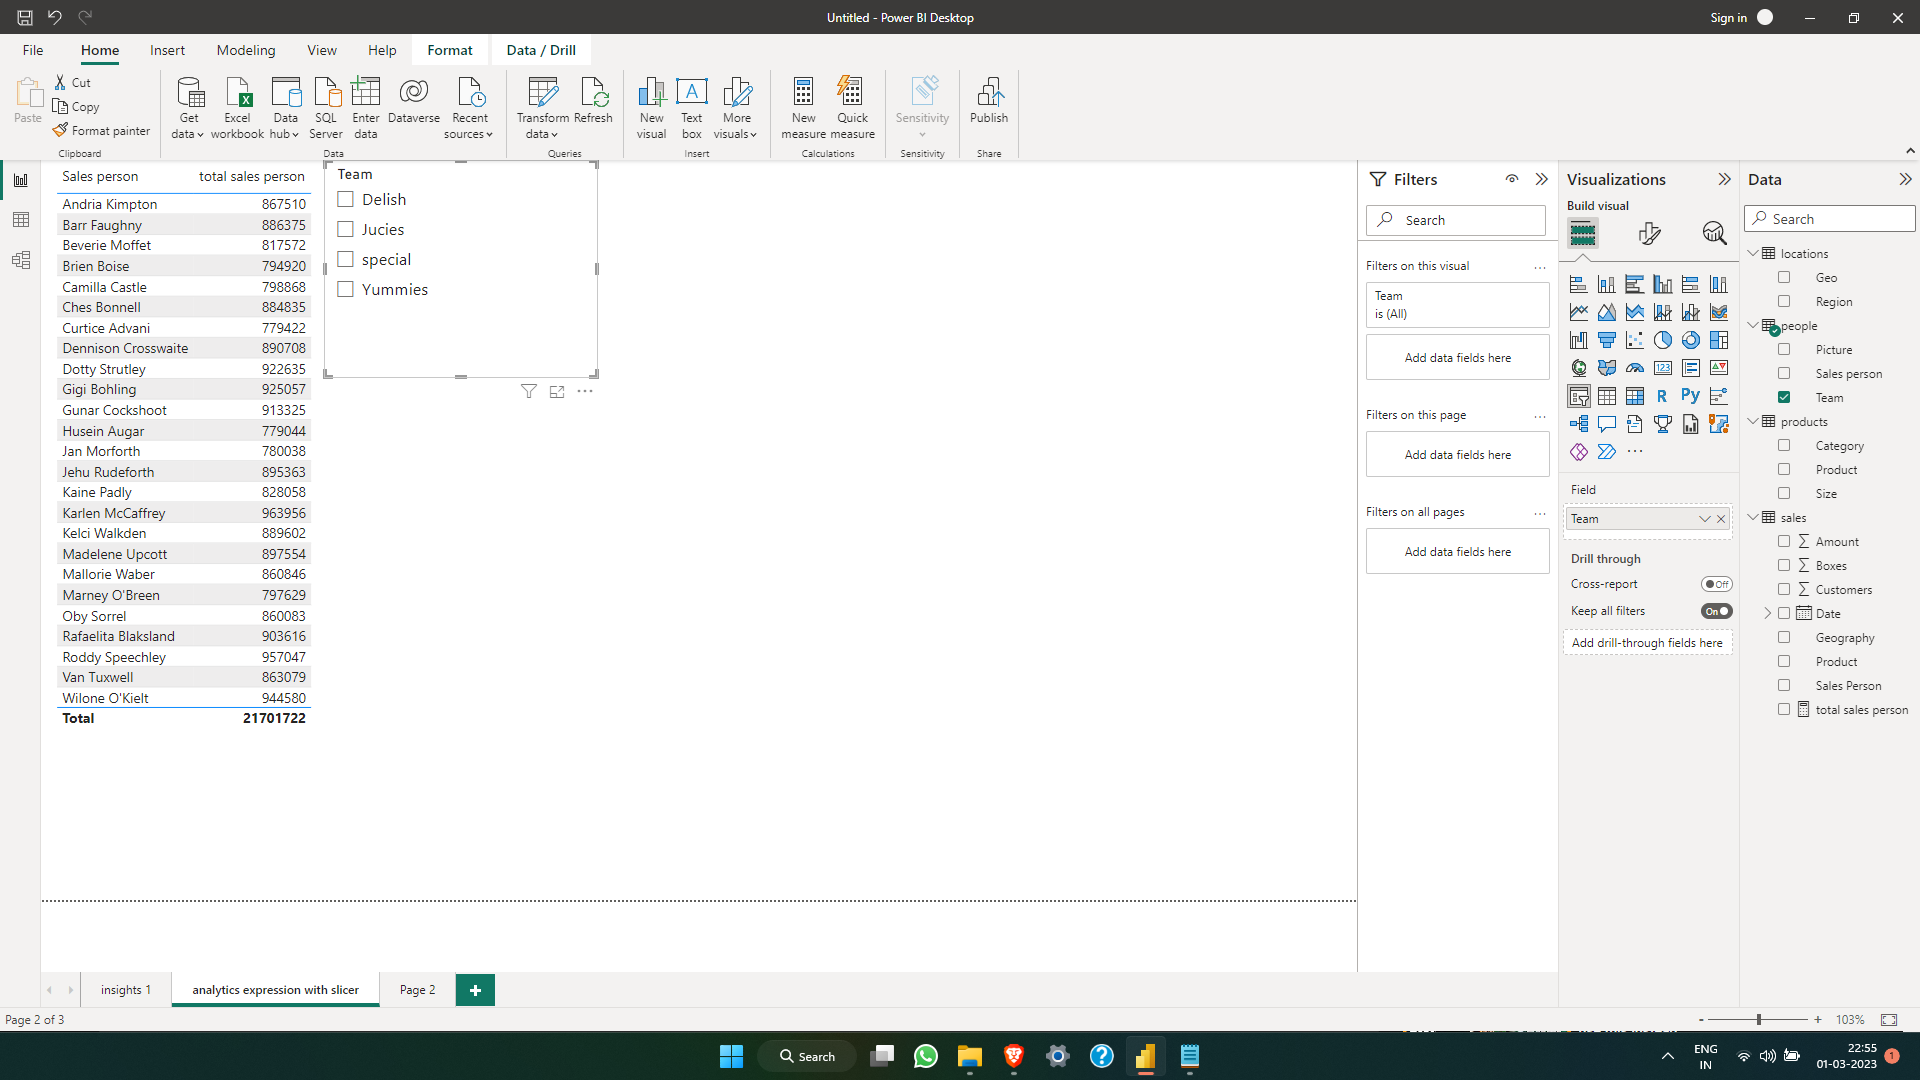

What the dashboard file says about the page in this screenshot:
{"tool":"powerbi","page":{"name":"analytics expression with slicer","canvas":[1280,720],"ordinal":1},"visuals":[{"type":"tableEx","fields":{"Values":["people.Sales person","sales.total sales person","Sum(sales.Boxes)","Sum(sales.Amount)"]},"box":[0,18.5,703.2,620.5],"z":0},{"type":"slicer","fields":{"Values":["people.Team"]},"box":[783,18.5,266.5,212],"z":1000}]}

Visuals, with their boxes on the page's 1280x720 design canvas (x1, y1, x2, y2). These are canvas units, not pixel positions in the 1920x1080 screenshot, which may show the page scaled, cropped or inside an application window:
tableEx - people.Sales person x sales.total sales person: crop(0, 18, 703, 639)
slicer - people.Team: crop(783, 18, 1050, 230)
